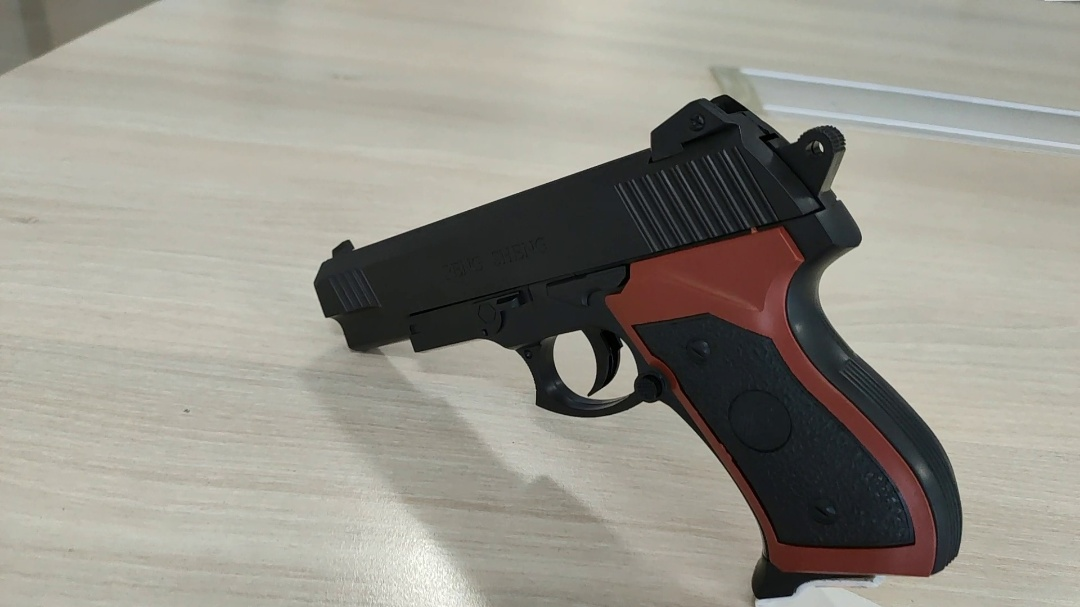gun: (407, 274, 532, 358)
